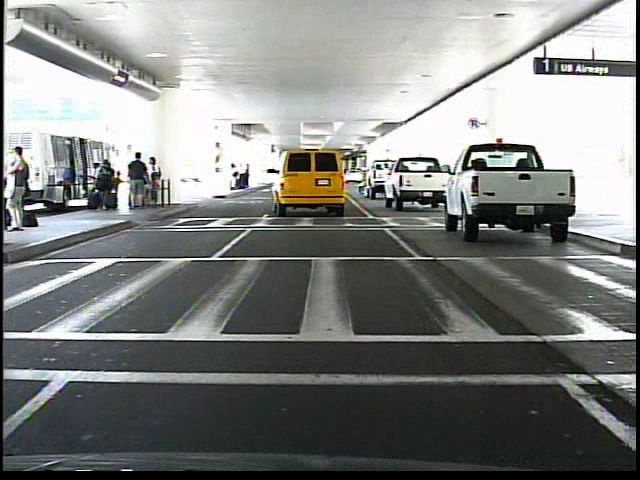person: (12, 145, 36, 231)
